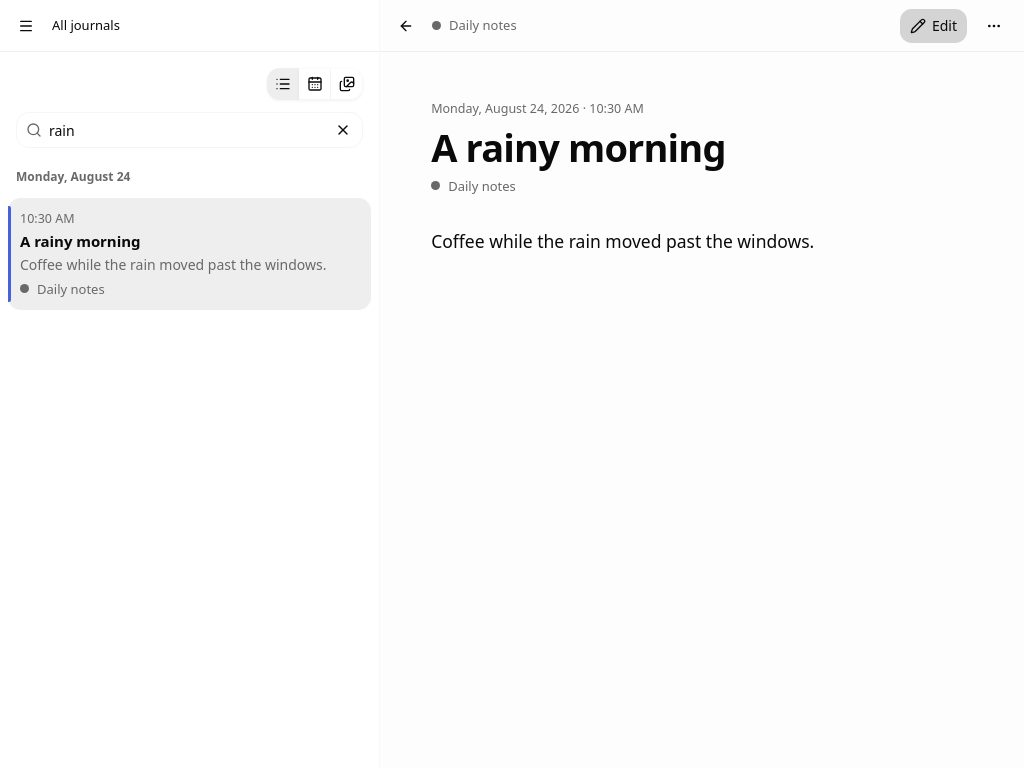
Test: Phase B routes › keeps a surviving Moment open as a quick log after deleting its writing
Click the button named "Entry actions" at [994, 26], box [976, 8, 1012, 44]
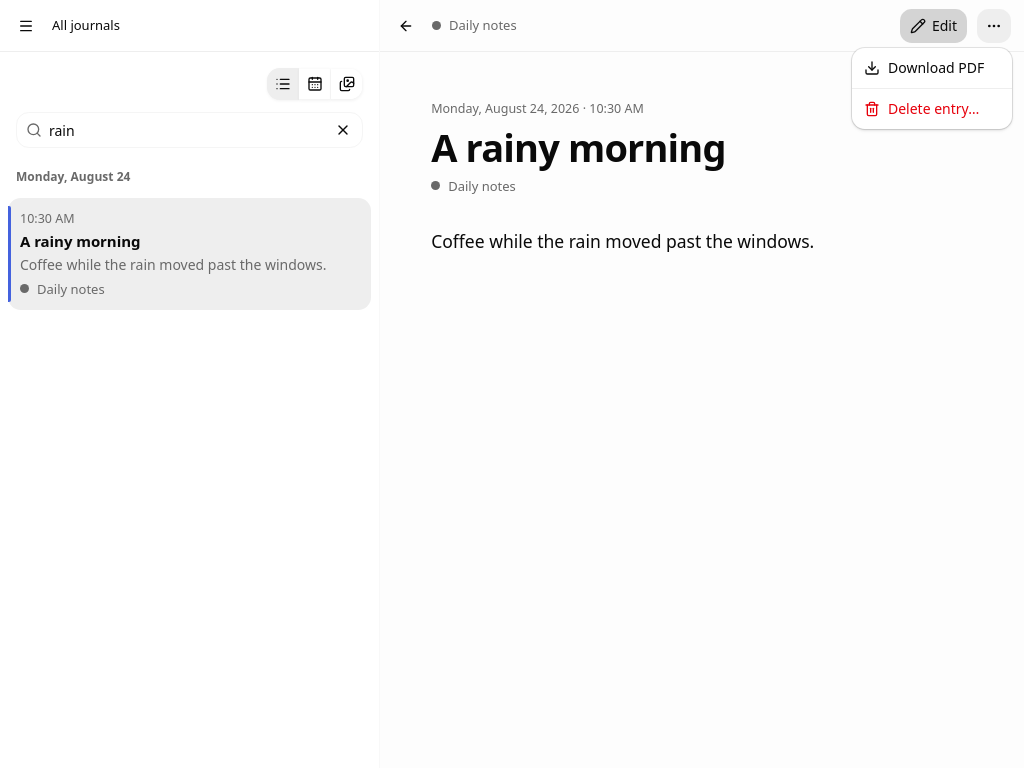
Click the menu item "Delete entry…" at [922, 108], box [864, 99, 979, 118]
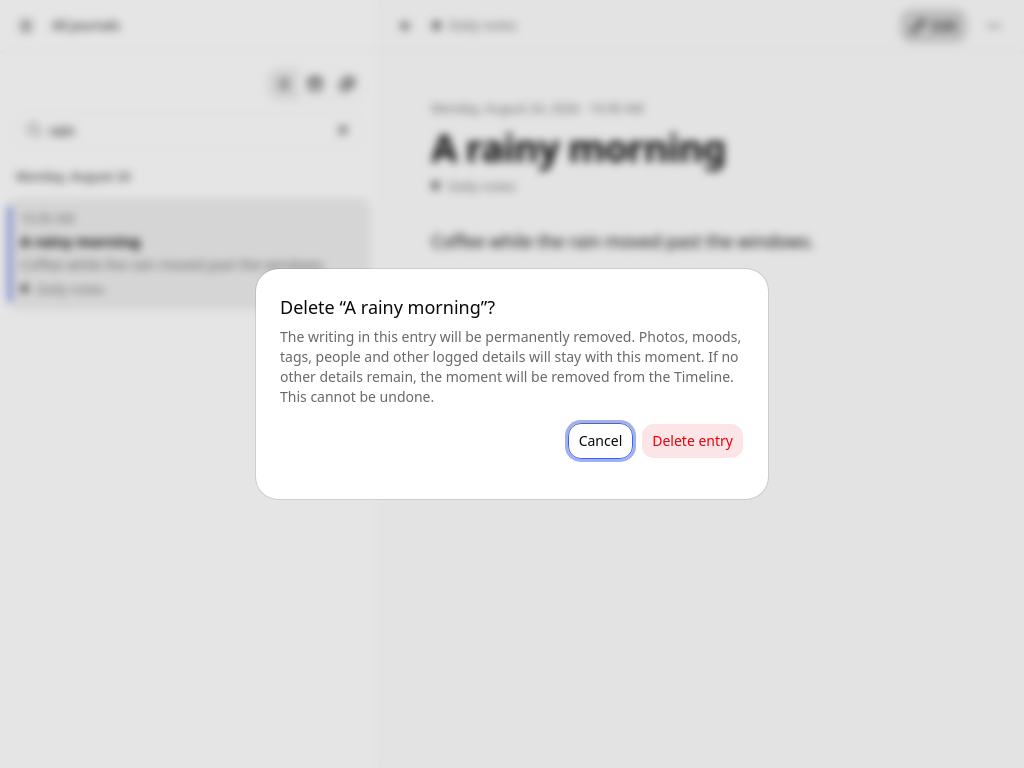
Click the button "Delete entry" at [693, 441], box [641, 423, 744, 459]
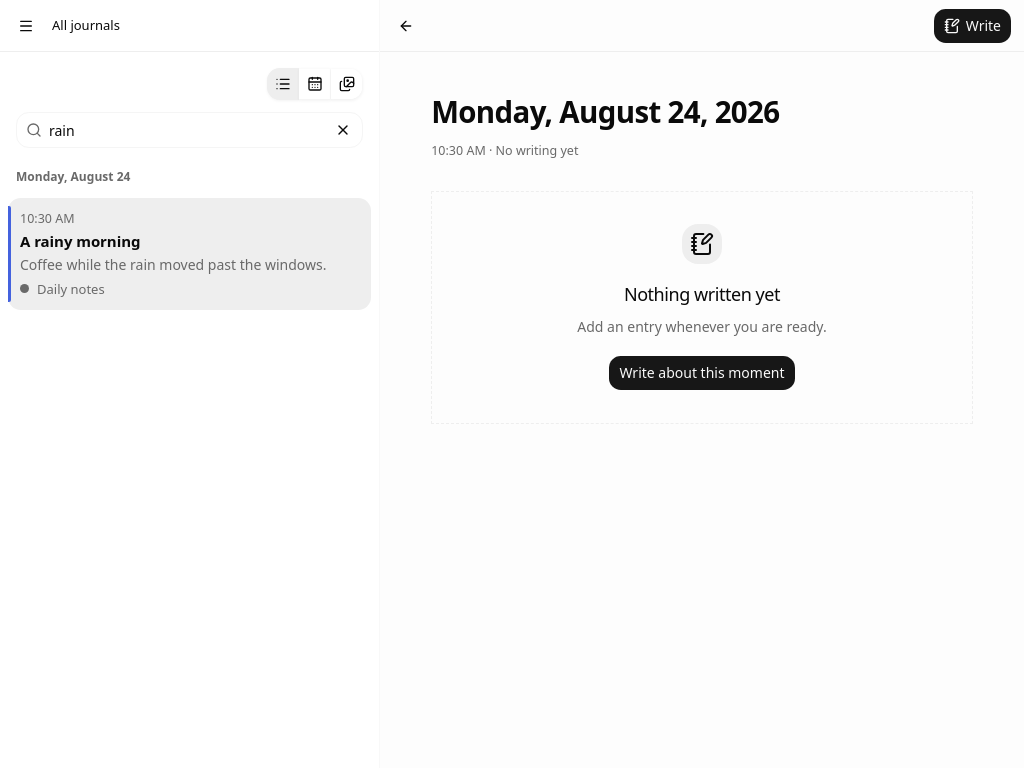
Result: the button "Write" is shown at [933, 8, 1012, 44]
